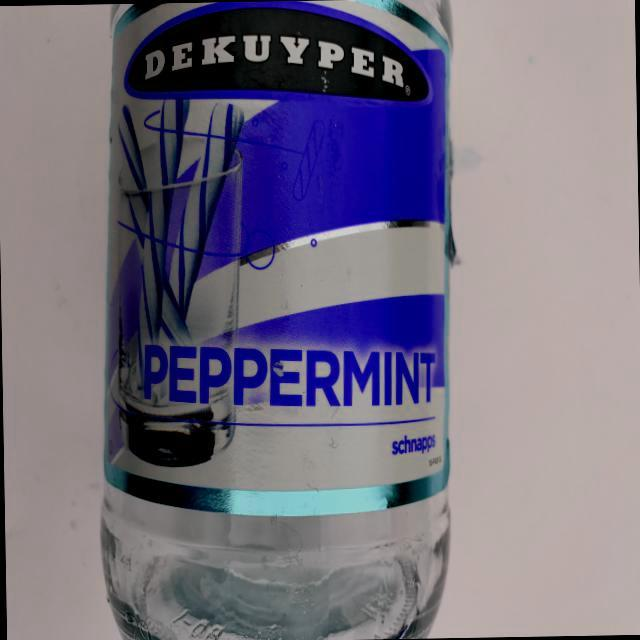glass: (75, 0, 478, 640)
